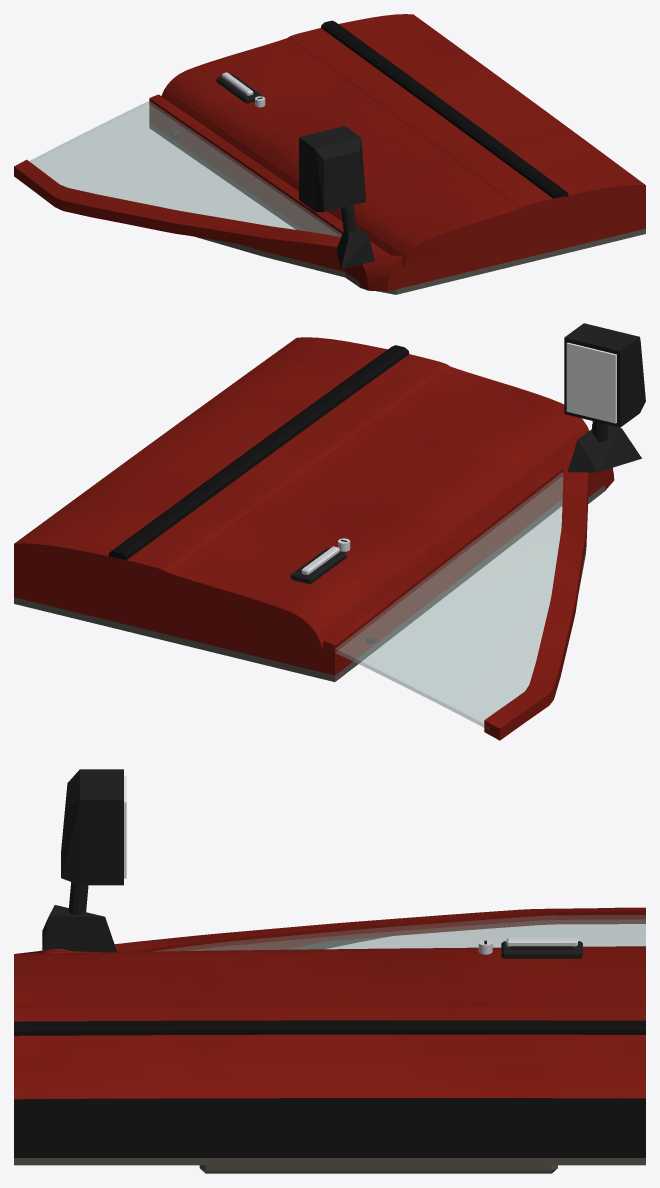
File: porta_dianteira_e.glb
3 renders of one model, top to bottom at view 1: azimuth 30°, elevation 25°; view 2: azimuth 150°, elevation 25°; view 3: azimuth 270°, elevation 25°, orthographic. The views are drawn at different scales.
Parts seen in each view (by area): view 1: porta_dianteira_e_pintura, porta_dianteira_e_vidro, porta_dianteira_e_1_plastico_preto, porta_dianteira_e_borracha, porta_dianteira_e_forro_porta, porta_dianteira_e_plastico_preto; view 2: porta_dianteira_e_pintura, porta_dianteira_e_vidro, porta_dianteira_e_1_plastico_preto, porta_dianteira_e_borracha, porta_dianteira_e_forro_porta, porta_dianteira_e_1_espelho_retrovisor, porta_dianteira_e_plastico_preto; view 3: porta_dianteira_e_pintura, porta_dianteira_e_chassi, porta_dianteira_e_1_plastico_preto, porta_dianteira_e_vidro, porta_dianteira_e_borracha, porta_dianteira_e_forro_porta, porta_dianteira_e_plastico_preto, porta_dianteira_e_cromado.
Boxes of the visible parts, x1,y1,x2,y2 form: porta_dianteira_e_pintura: [14, 14, 645, 291]; porta_dianteira_e_vidro: [29, 101, 341, 236]; porta_dianteira_e_1_plastico_preto: [299, 126, 374, 269]; porta_dianteira_e_borracha: [321, 20, 568, 198]; porta_dianteira_e_forro_porta: [149, 123, 645, 294]; porta_dianteira_e_plastico_preto: [172, 73, 262, 137]; porta_dianteira_e_pintura: [14, 337, 614, 740]; porta_dianteira_e_vidro: [334, 472, 563, 730]; porta_dianteira_e_1_plastico_preto: [564, 323, 645, 472]; porta_dianteira_e_borracha: [108, 345, 409, 559]; porta_dianteira_e_forro_porta: [14, 485, 605, 681]; porta_dianteira_e_1_espelho_retrovisor: [566, 342, 616, 423]; porta_dianteira_e_plastico_preto: [290, 548, 375, 643]; porta_dianteira_e_pintura: [14, 907, 645, 1099]; porta_dianteira_e_chassi: [14, 940, 645, 1157]; porta_dianteira_e_1_plastico_preto: [42, 769, 123, 952]; porta_dianteira_e_vidro: [154, 915, 645, 951]; porta_dianteira_e_borracha: [14, 1020, 645, 1035]; porta_dianteira_e_forro_porta: [14, 936, 645, 1173]; porta_dianteira_e_plastico_preto: [501, 941, 582, 958]; porta_dianteira_e_cromado: [478, 938, 577, 954].
Bounding box in the file's own units: 0.997 × 0.3936 × 1.
Materials: 10 (1 with a texture image).
